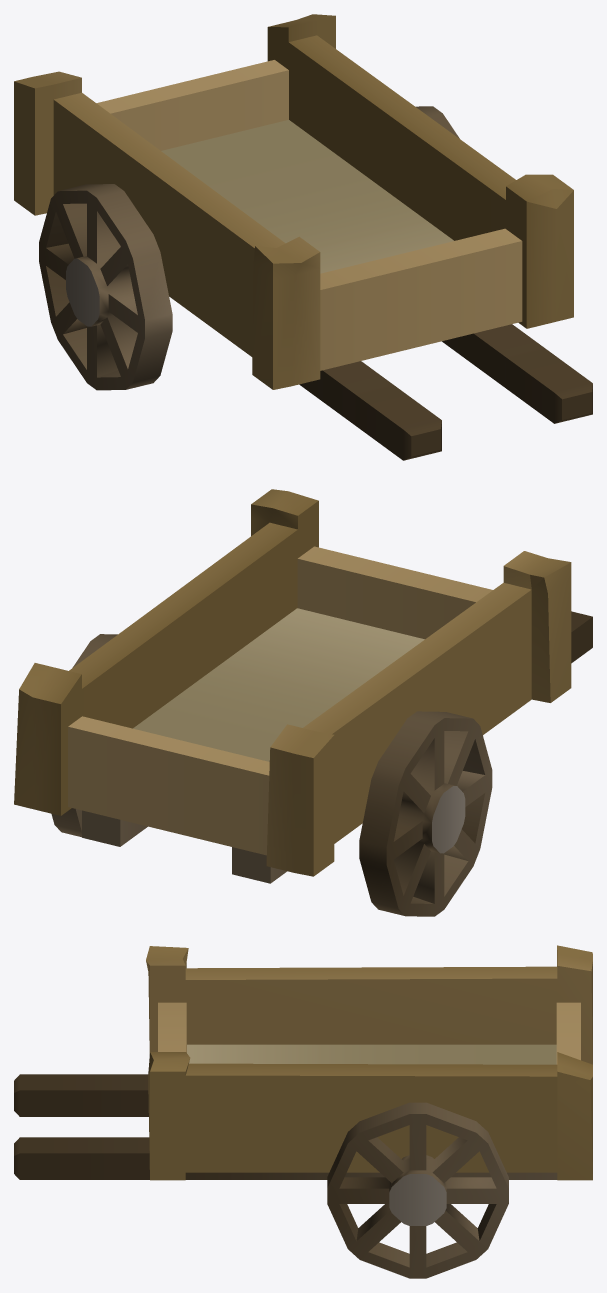
The model's file is Cart.fbx.
The picture shows the model from 3 angles, top to bottom: view 1: azimuth 30°, elevation 25°; view 2: azimuth 150°, elevation 25°; view 3: azimuth 270°, elevation 25°; orthographic projection. The views are drawn at different scales.
Visible parts, largest first — view 1: Cart_Body, Cart_Wheels, Cart_Handles; view 2: Cart_Body, Cart_Wheels, Cart_Handles; view 3: Cart_Body, Cart_Wheels, Cart_Handles.
Part boxes in pixels (<box>): Cart_Body: <box>14,14,573,389</box>; Cart_Wheels: <box>39,106,459,390</box>; Cart_Handles: <box>299,324,592,460</box>; Cart_Body: <box>14,489,571,876</box>; Cart_Wheels: <box>51,634,492,916</box>; Cart_Handles: <box>82,611,592,883</box>; Cart_Body: <box>146,945,592,1180</box>; Cart_Wheels: <box>327,1102,508,1278</box>; Cart_Handles: <box>14,1074,557,1179</box>.
Size of the model in its own units: 1.45 by 0.8994 by 2.34.
Materials: 1 (1 with a texture image).
